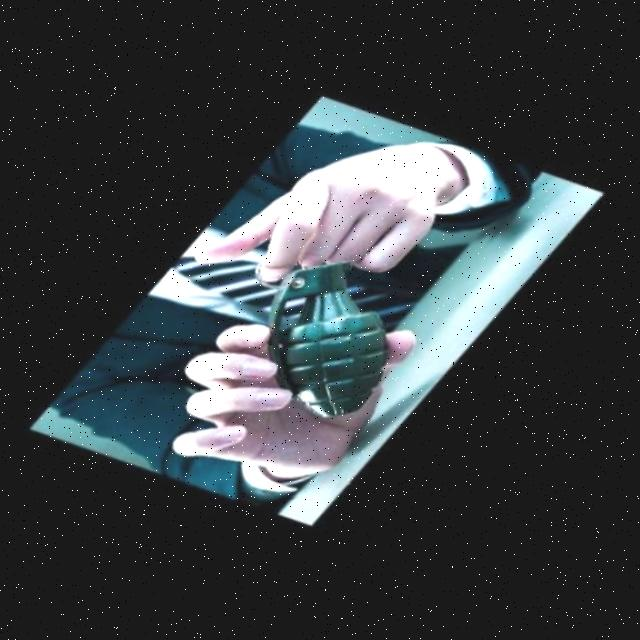grenade: (248, 232, 414, 438)
